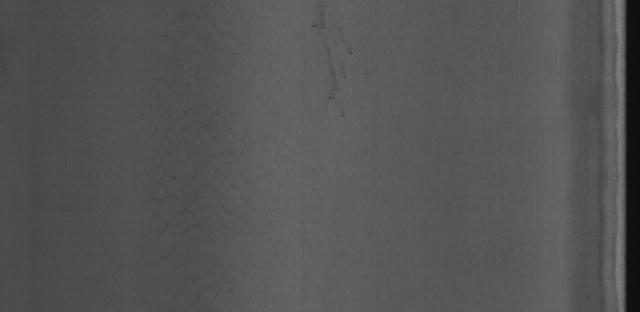inclusion: (312, 18, 353, 100)
silk_spot: (138, 9, 259, 306)
